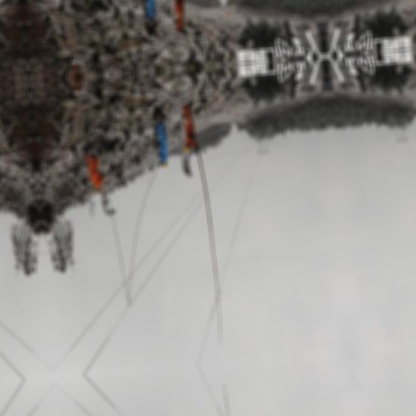yellow: (184, 144, 191, 154), (162, 162, 170, 168)
